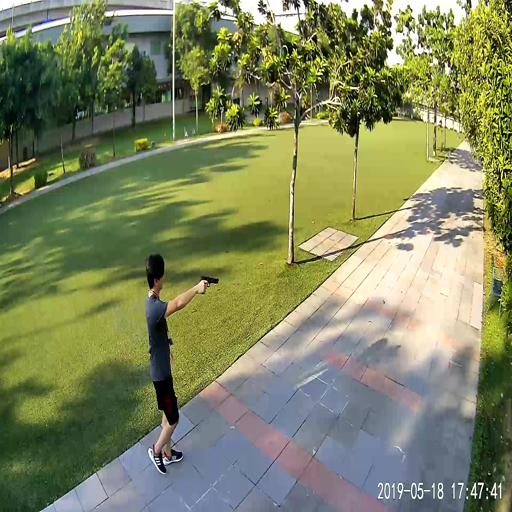pistol: (198, 274, 219, 293)
